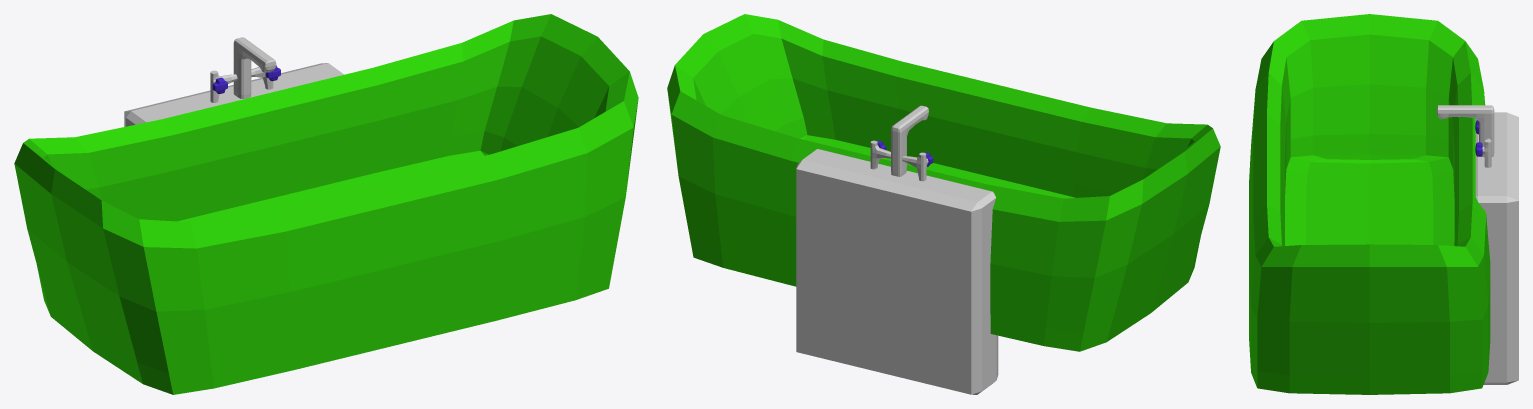
File: Bathtub.fbx
3 views of the same model, side by side, from view 1: azimuth 30°, elevation 25°; view 2: azimuth 150°, elevation 25°; view 3: azimuth 270°, elevation 25° (orthographic). The views are drawn at different scales.
Parts seen in each view (by area): view 1: Bathtub; view 2: Bathtub; view 3: Bathtub.
Boxes of the visible parts, x1=… form: Bathtub: x1=14, y1=14, x2=638, y2=394; Bathtub: x1=667, y1=14, x2=1220, y2=394; Bathtub: x1=1249, y1=14, x2=1518, y2=394.
Size of the model in its own units: 4.77 by 2.26 by 2.33.
